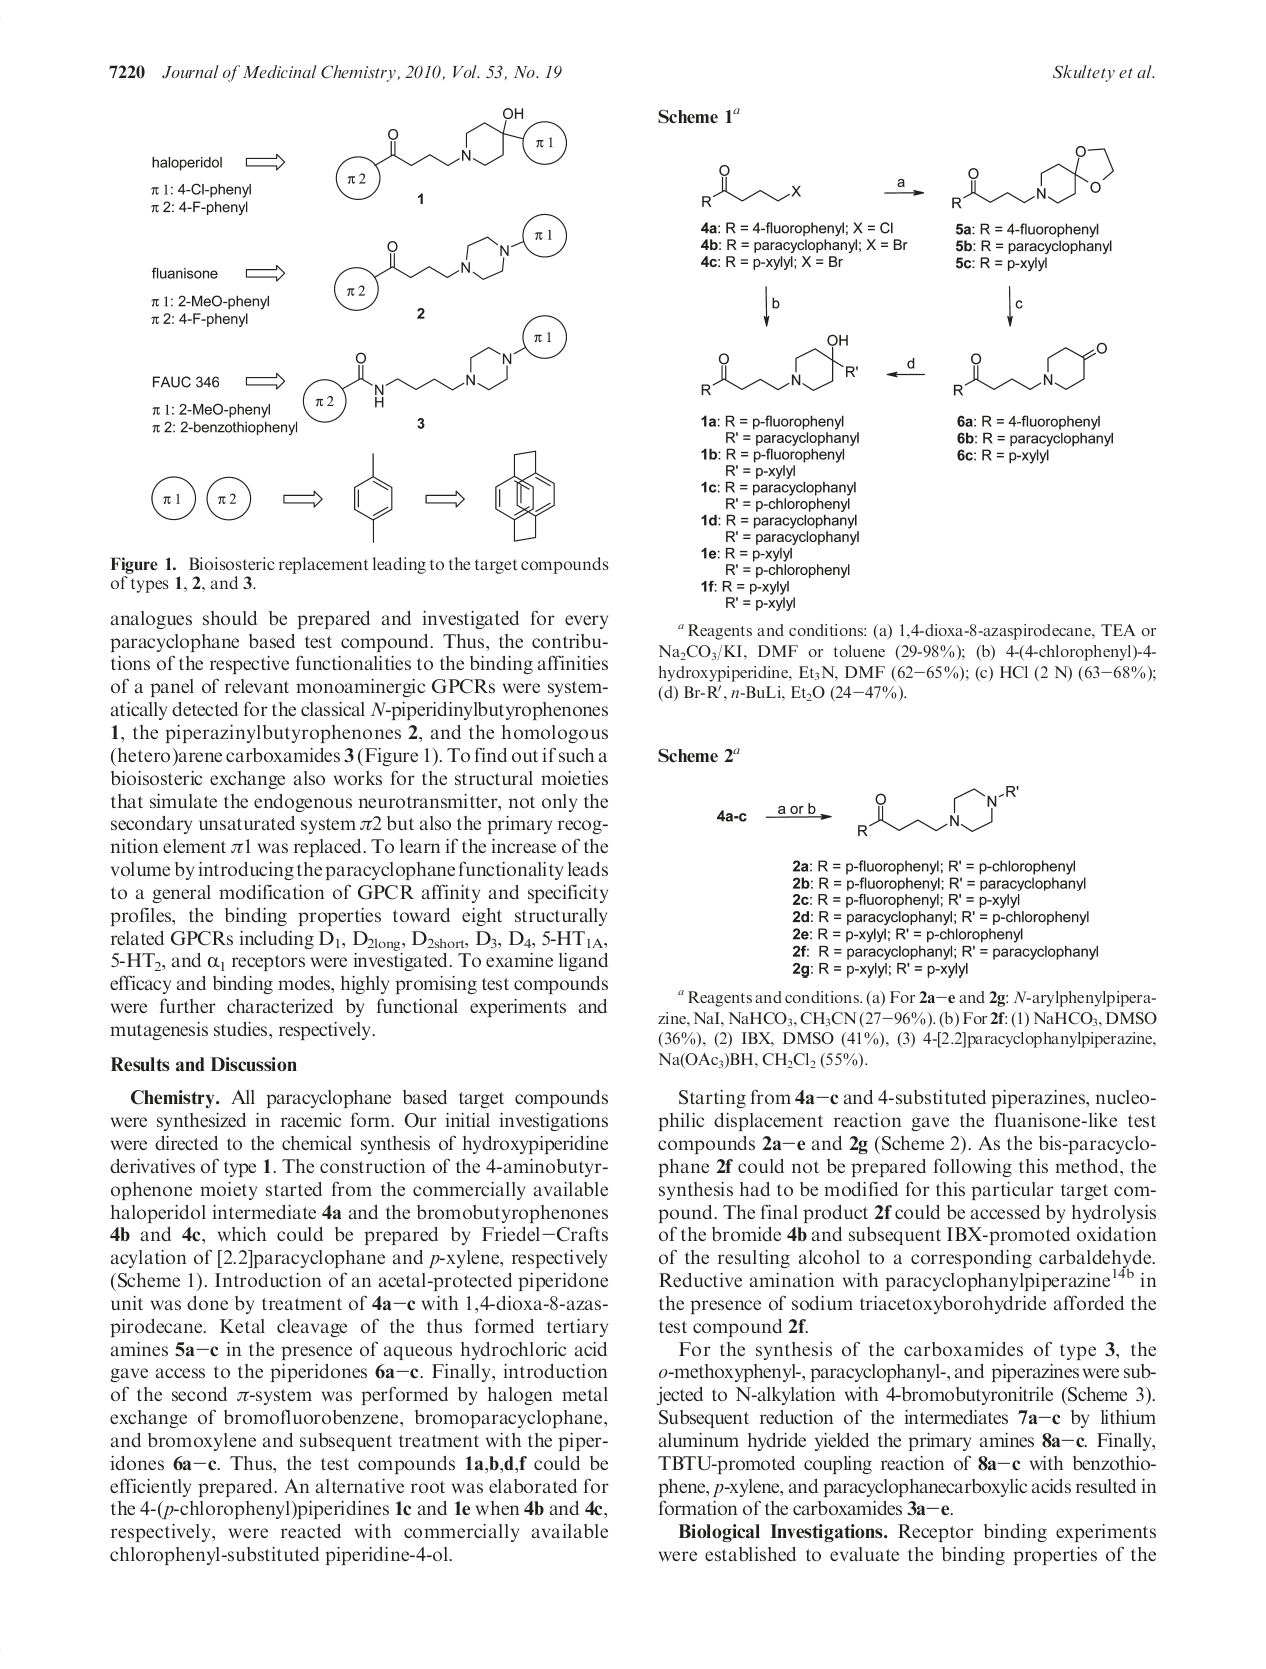exist_molecular: (301, 314, 569, 426), (331, 209, 568, 313), (332, 102, 569, 199), (951, 144, 1117, 213), (699, 331, 860, 398), (855, 781, 1023, 840), (949, 339, 1109, 396), (493, 449, 559, 541), (699, 164, 803, 211), (350, 448, 396, 545)
